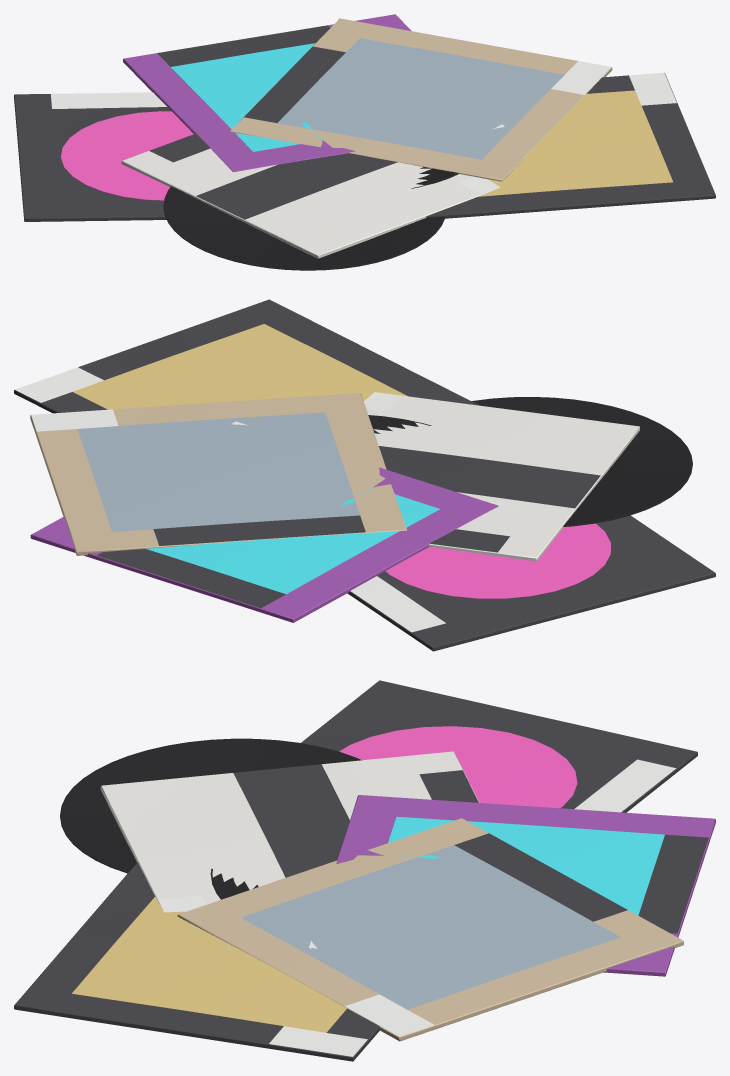
Rendered from paper_records_scattered.fbx.
The picture shows the model from 3 angles, top to bottom: view 1: azimuth 30°, elevation 25°; view 2: azimuth 150°, elevation 25°; view 3: azimuth 270°, elevation 25°; orthographic projection. The views are drawn at different scales.
Visible parts, largest first — view 1: paper_records_scattered; view 2: paper_records_scattered; view 3: paper_records_scattered.
Boxes of the visible parts, <box> form: paper_records_scattered: <box>14,14,715,270</box>; paper_records_scattered: <box>14,299,715,651</box>; paper_records_scattered: <box>14,680,715,1061</box>.
Size of the model in its own units: 0.7704 by 0.00949 by 0.6058.
